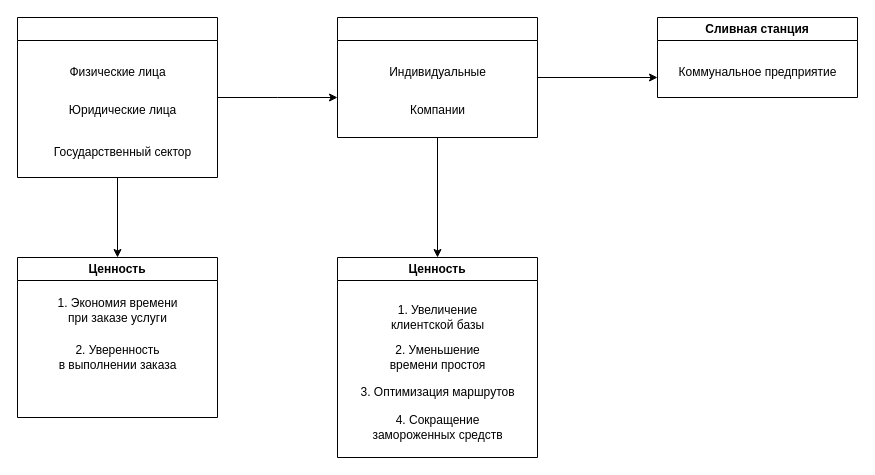
This 875x475 diagram has some shape labels left out. The shapes that lost their labels are listed below. From the top down, each one's box as (x1, y1, x2, y2) in pixels, then its label:
(16, 16, 218, 178): Абонент
(336, 16, 538, 138): Перевозчик
